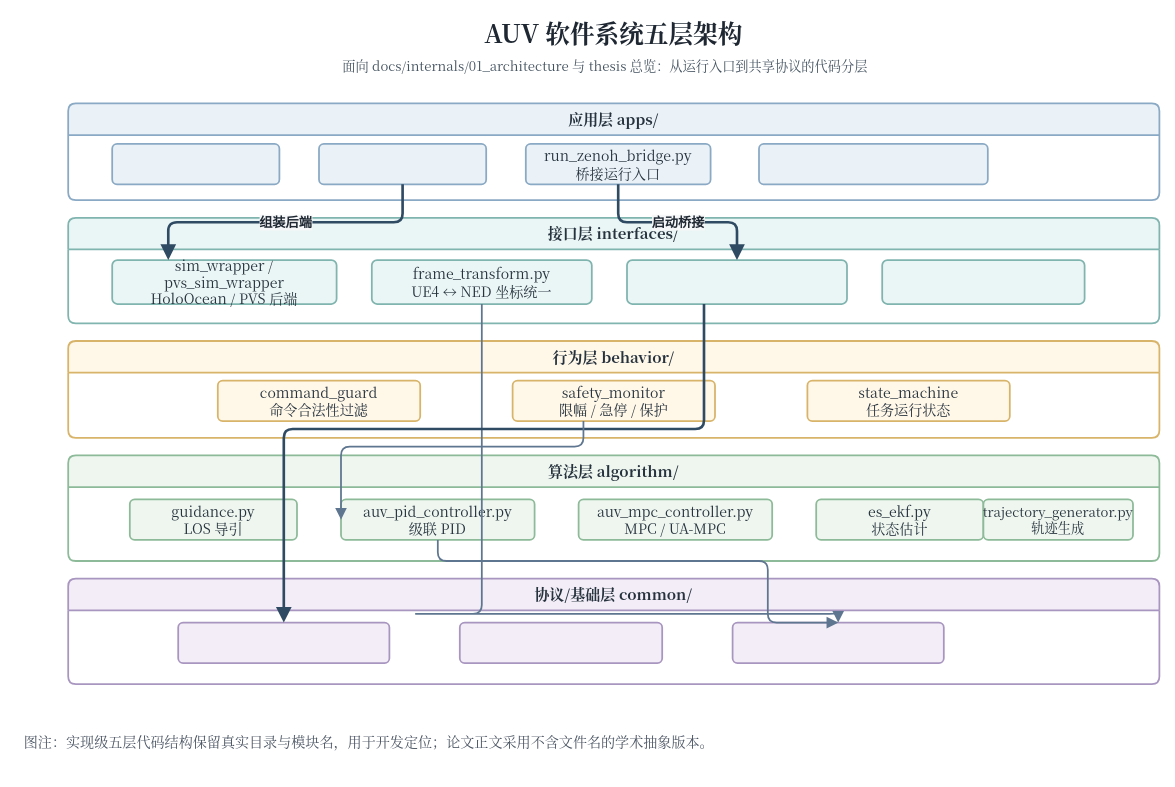
The diagram is 1175 pixels wide and 787 high, and some of its shapes have lost their labels. Each missing label, with the centre of its shape:
"enums.py 模式 / 指令 / 状态" goes at [560,642].
"main.py 独立仿真入口" goes at [195,164].
"main_loop.py 单进程闭环" goes at [402,164].
"mock_amd_server 协议级硬件替身" goes at [983,281].
"physics.py 物理限幅 / 饱和日志" goes at [837,642].
"protocol.py Topic / Payload 契约" goes at [283,642].
"scripts/start_experiment.sh 实验编排入口" goes at [873,164].
"zenoh_bridge / protocol_udp 跨进程通信桥接" goes at [736,281].
